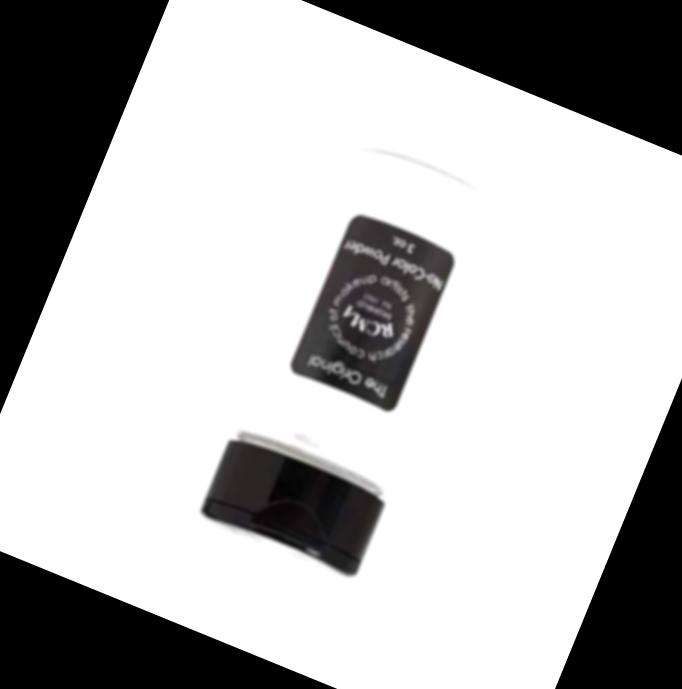cosmetic: (188, 136, 514, 583)
